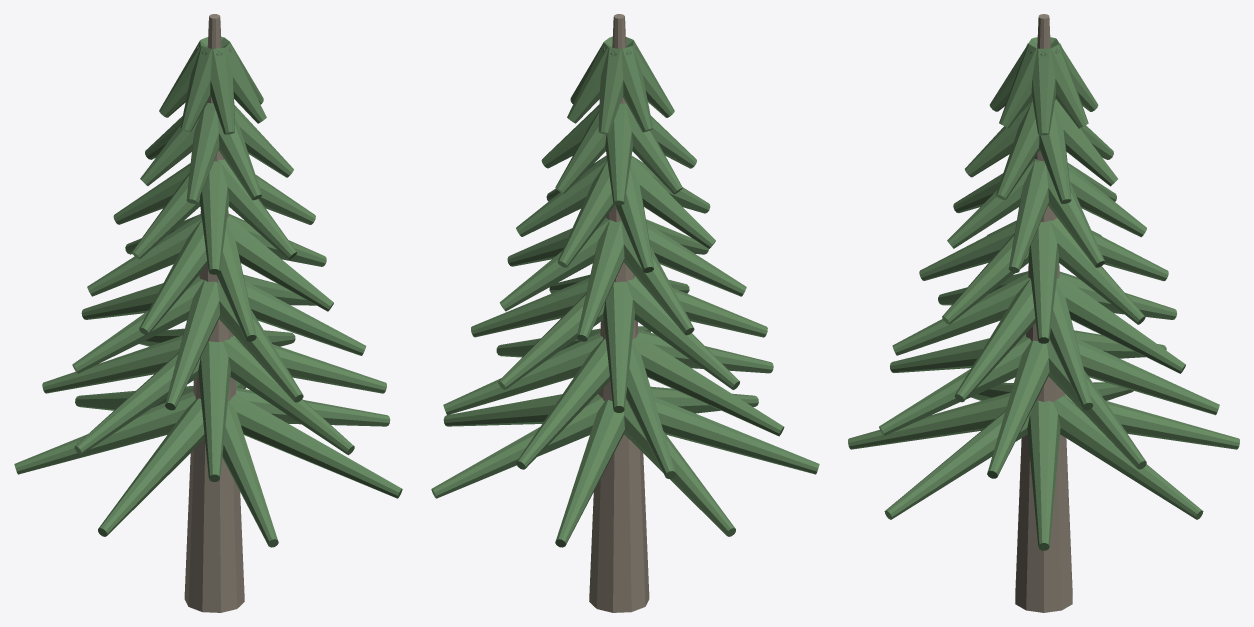
File: a3_tree.glb
3 views of the same model, side by side, from view 1: azimuth 30°, elevation 25°; view 2: azimuth 150°, elevation 25°; view 3: azimuth 270°, elevation 25° (orthographic).
Visible parts, largest first — view 1: Body.024; view 2: Body.024; view 3: Body.024.
Part boxes in pixels (box(x1,y1,x2,y2)): Body.024: box(14, 14, 402, 612); Body.024: box(431, 14, 819, 612); Body.024: box(848, 14, 1239, 612).
Bounding box in the file's own units: 2.02 × 3.4 × 2.07.
